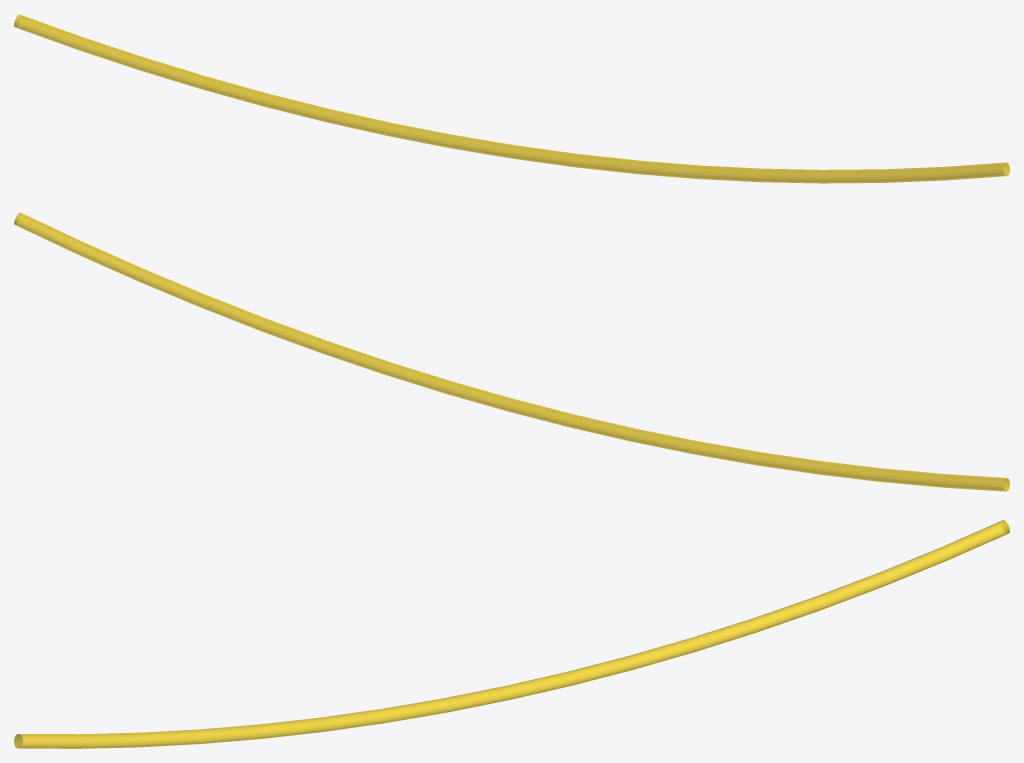
File: Event_27938768_track_4.fbx
3 renders of one model, top to bottom at view 1: azimuth 30°, elevation 25°; view 2: azimuth 210°, elevation 25°; view 3: azimuth 270°, elevation 25°, orthographic. The views are drawn at different scales.
Parts seen in each view (by area): view 1: Model; view 2: Model; view 3: Model.
Part boxes in pixels (bbox=[...]): Model: bbox=[14, 14, 1009, 183]; Model: bbox=[14, 212, 1009, 491]; Model: bbox=[14, 520, 1009, 748].
Size of the model in its own units: 1.81 by 0.3225 by 2.69.
